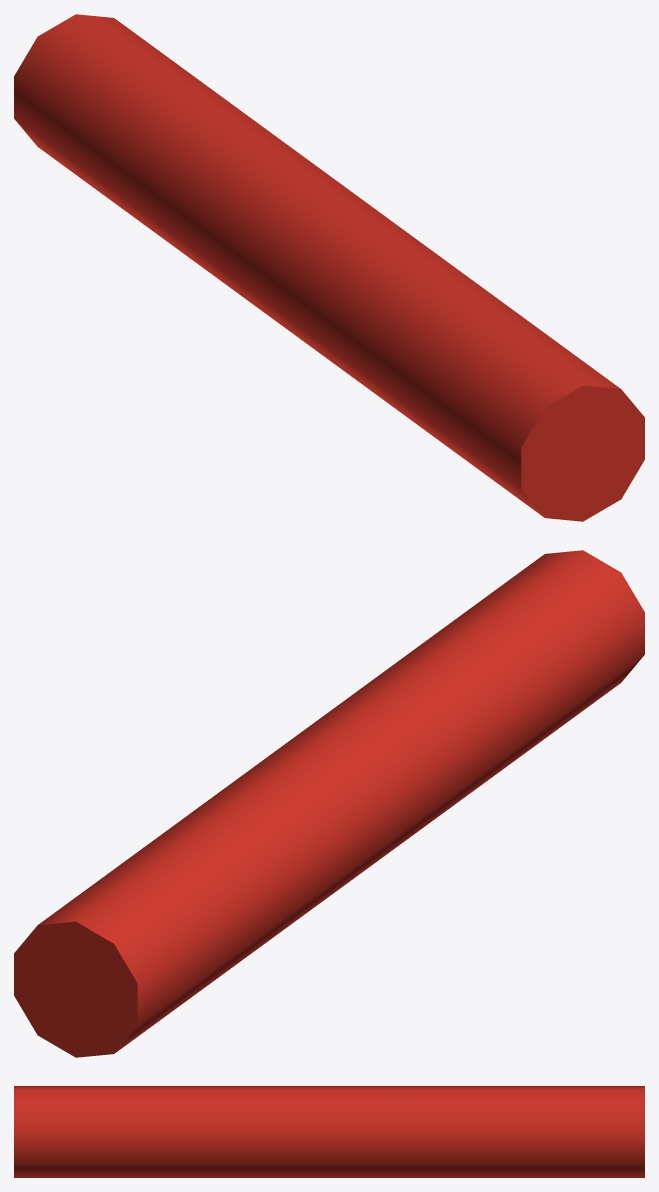
Rendered from anchor.glb.
The picture shows the model from 3 angles, top to bottom: view 1: azimuth 30°, elevation 25°; view 2: azimuth 150°, elevation 25°; view 3: azimuth 270°, elevation 25°; orthographic projection. The views are drawn at different scales.
Visible parts, largest first — view 1: anchor; view 2: anchor; view 3: anchor.
Part boxes in pixels (x1,y1,x2,y2): anchor: [14, 14, 644, 521]; anchor: [14, 550, 644, 1057]; anchor: [14, 1086, 644, 1177].
Bounding box in the file's own units: 0.3804 × 0.4 × 2.7.
